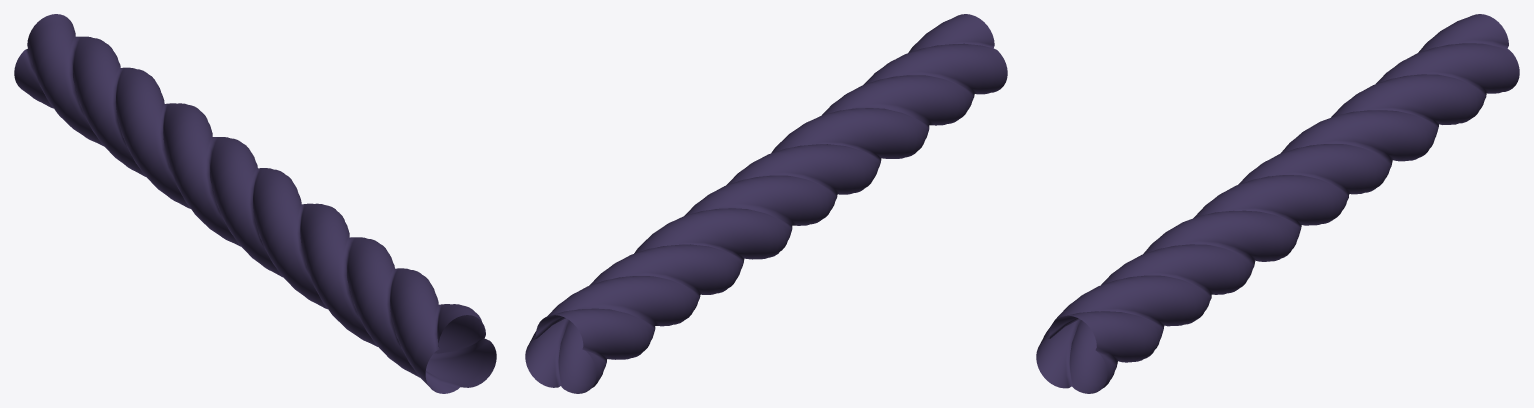
Rendered from rightString.obj.
3 renders of one model, left to right at view 1: azimuth 30°, elevation 25°; view 2: azimuth 150°, elevation 25°; view 3: azimuth 330°, elevation 25°, orthographic.
Visible parts, largest first — view 1: 円; view 2: 円; view 3: 円.
Boxes of the visible parts, bbox=[...] form: 円: bbox=[14, 14, 496, 393]; 円: bbox=[525, 14, 1007, 393]; 円: bbox=[1036, 14, 1519, 393].
Size of the model in its own units: 0.5027 by 0.5027 by 4.57.
1 material, 1 textured.
